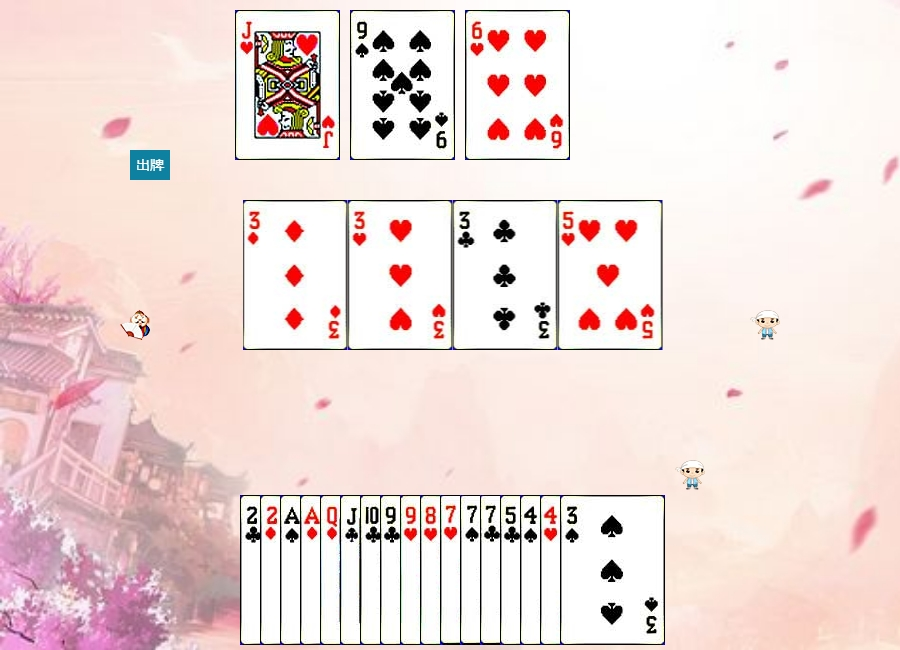10~2: (360, 495, 465, 645)
11~2: (340, 495, 445, 645)
11~3: (235, 10, 340, 160)
12~1: (320, 495, 425, 645)
14~1: (300, 495, 405, 645)
14~4: (280, 495, 385, 645)
15~1: (260, 495, 365, 645)
15~2: (240, 495, 345, 645)
3~1: (243, 200, 348, 350)
3~2: (453, 200, 558, 350)
3~3: (348, 200, 453, 350)
3~4: (560, 495, 665, 645)
4~3: (540, 495, 645, 645)
4~4: (520, 495, 625, 645)
5~2: (500, 495, 605, 645)
5~3: (558, 200, 663, 350)
6~3: (465, 10, 570, 160)
7~2: (480, 495, 585, 645)
7~3: (440, 495, 545, 645)
7~4: (460, 495, 565, 645)
8~3: (420, 495, 525, 645)
9~2: (380, 495, 485, 645)
9~3: (400, 495, 505, 645)
9~4: (350, 10, 455, 160)
